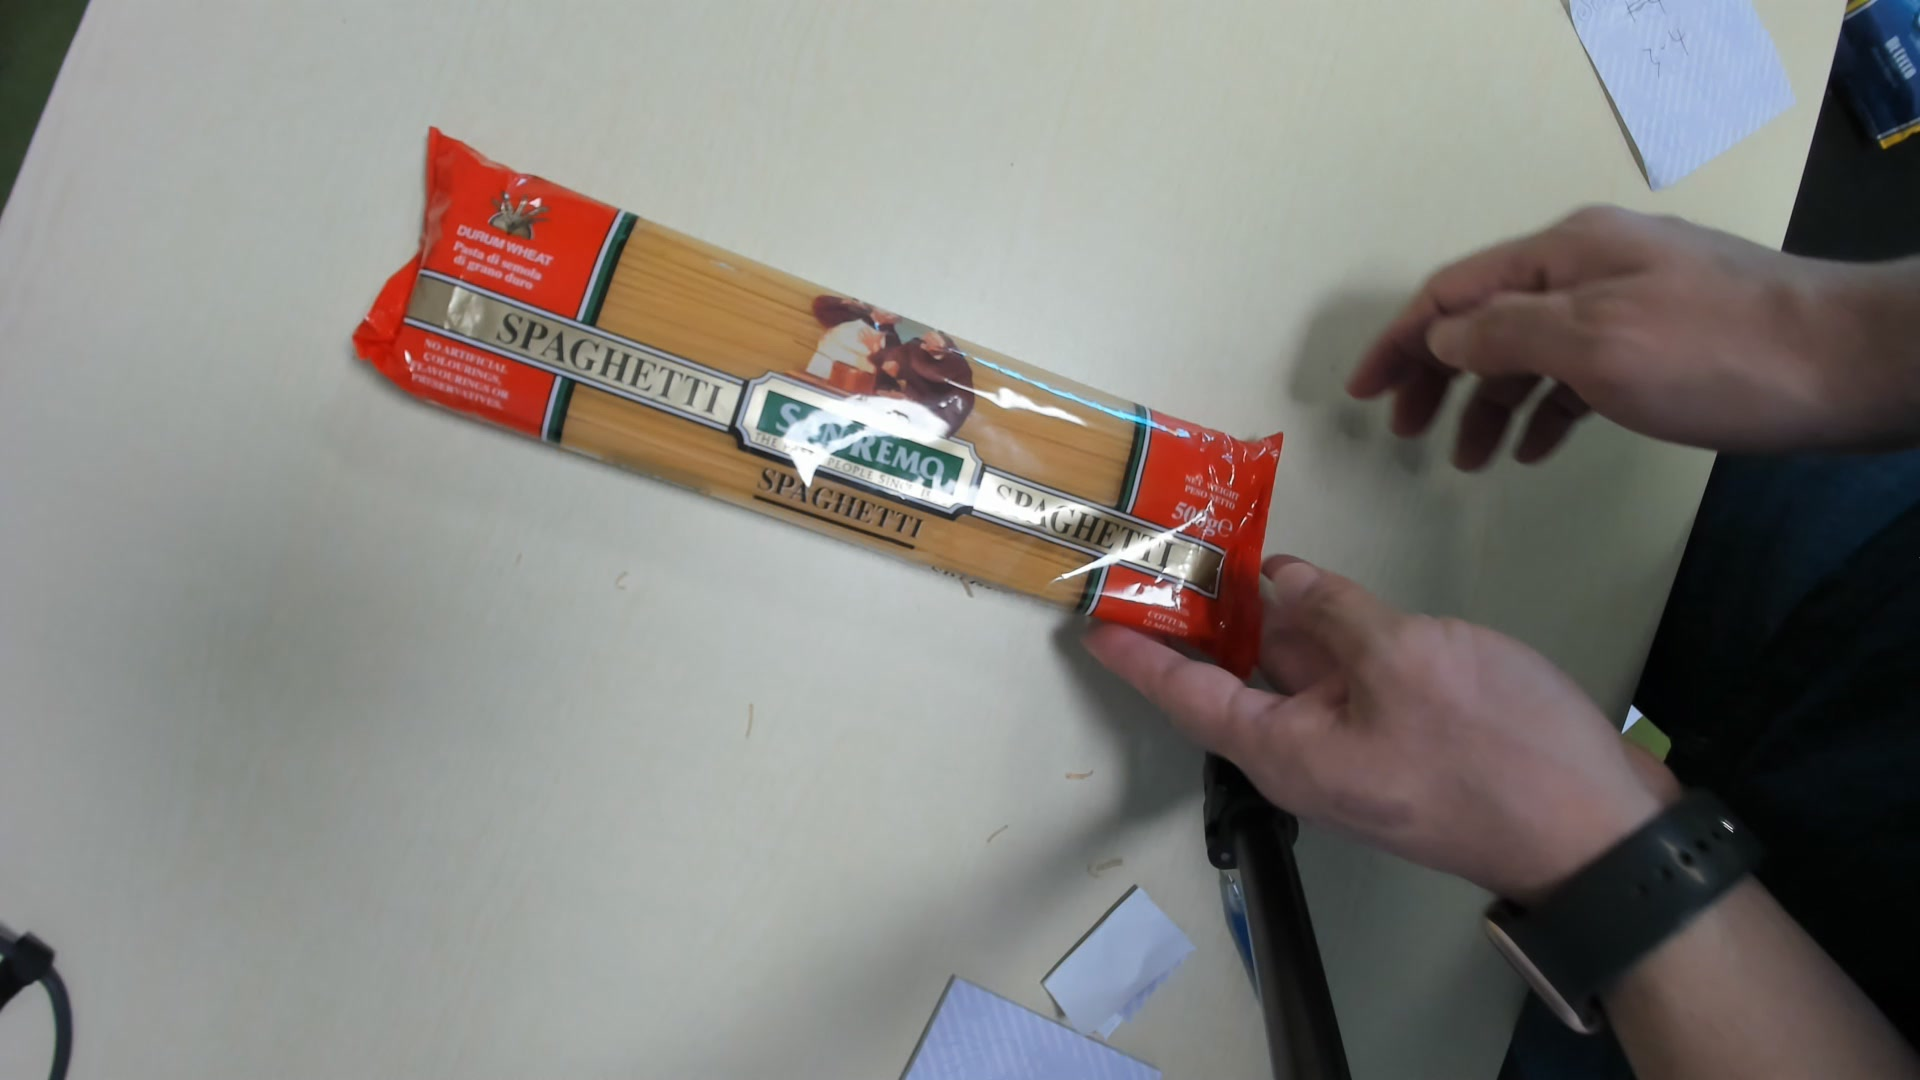Pasta_500-599g_Halal_NonHealthy: (349, 128, 1276, 675)
